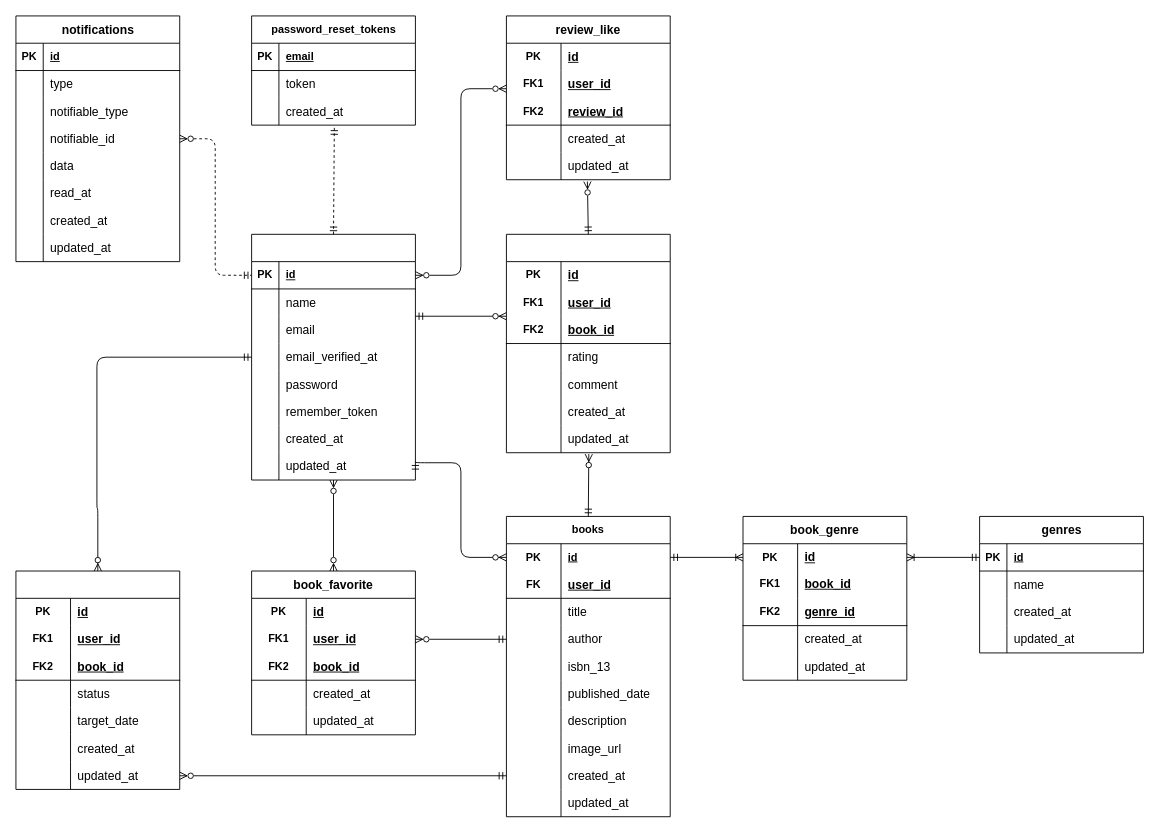
Image size: 1159x833. Some labels were removed from this diagram. The shapes that lost their labels are listed below. From the top down, each one's box as (x1, y1, x2, y2) in pixels, then its label:
(251, 233, 415, 480): users
(506, 233, 670, 453): reviews
(15, 570, 180, 789): reading_plans
